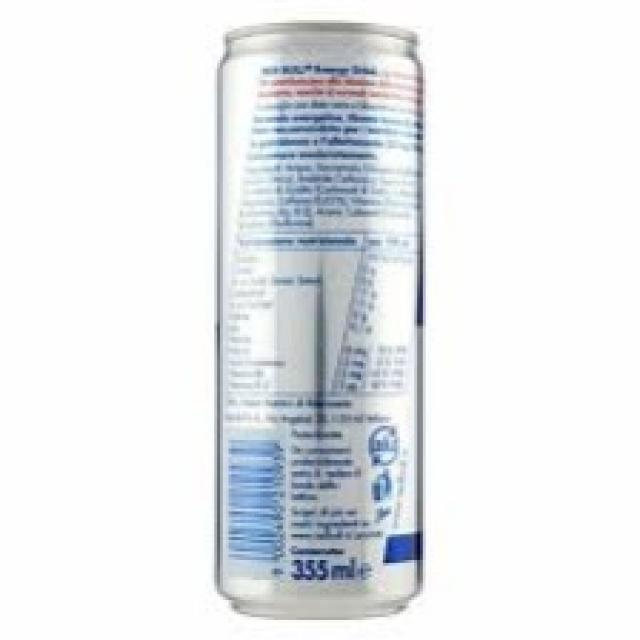metel: (210, 23, 432, 627)
